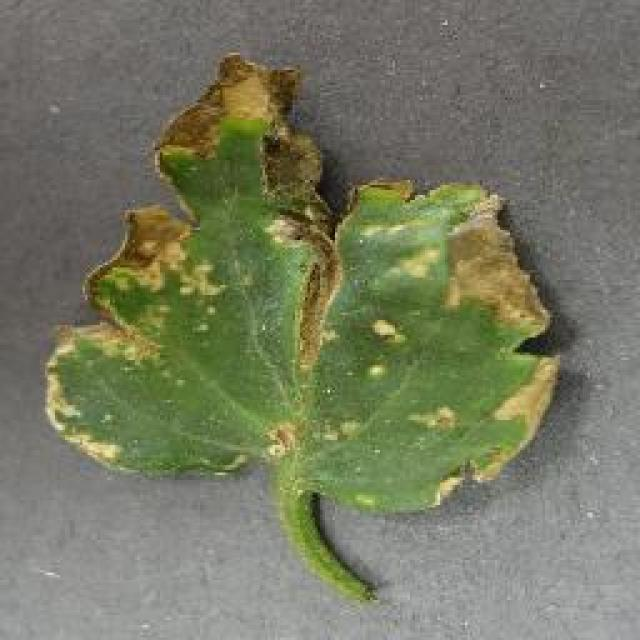Tomato___Bacterial_spot: (39, 50, 571, 613)
